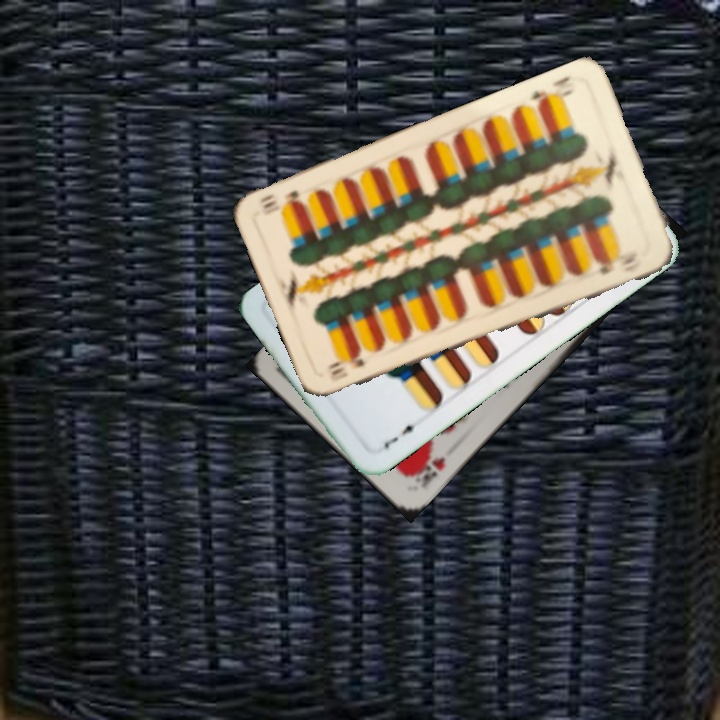E10: (525, 72, 578, 111), (325, 354, 367, 384)
E7: (378, 419, 423, 451)
HK: (407, 452, 448, 491)
